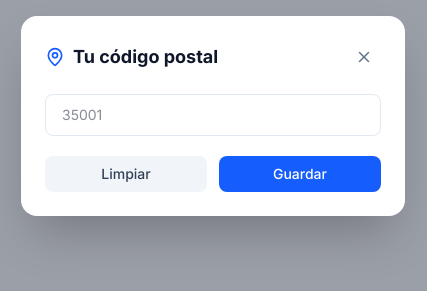
Test case: LocationSelectorModal › province hint › should show the matching province name once the first two digits match a known province code
The image size is (427, 291).
Type "35" into the field with placeholder "35001" at (213, 115), box [45, 94, 381, 136]
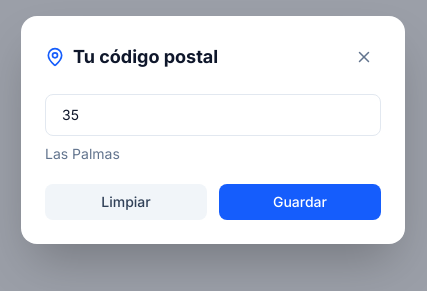
expect the text "Las Palmas" is shown: met, box [45, 145, 120, 162]
